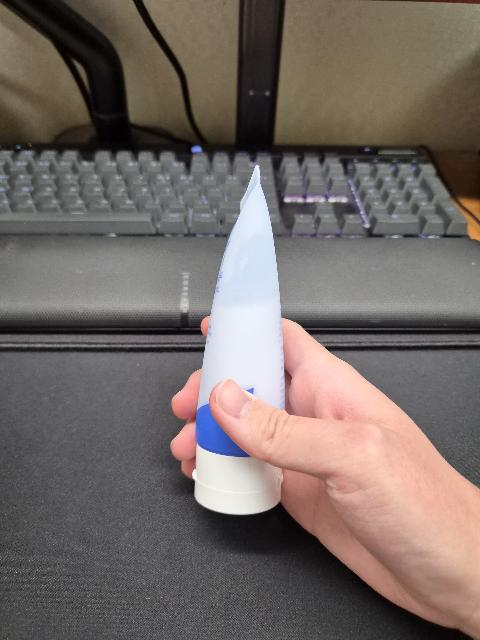handcream: (192, 164, 285, 515)
